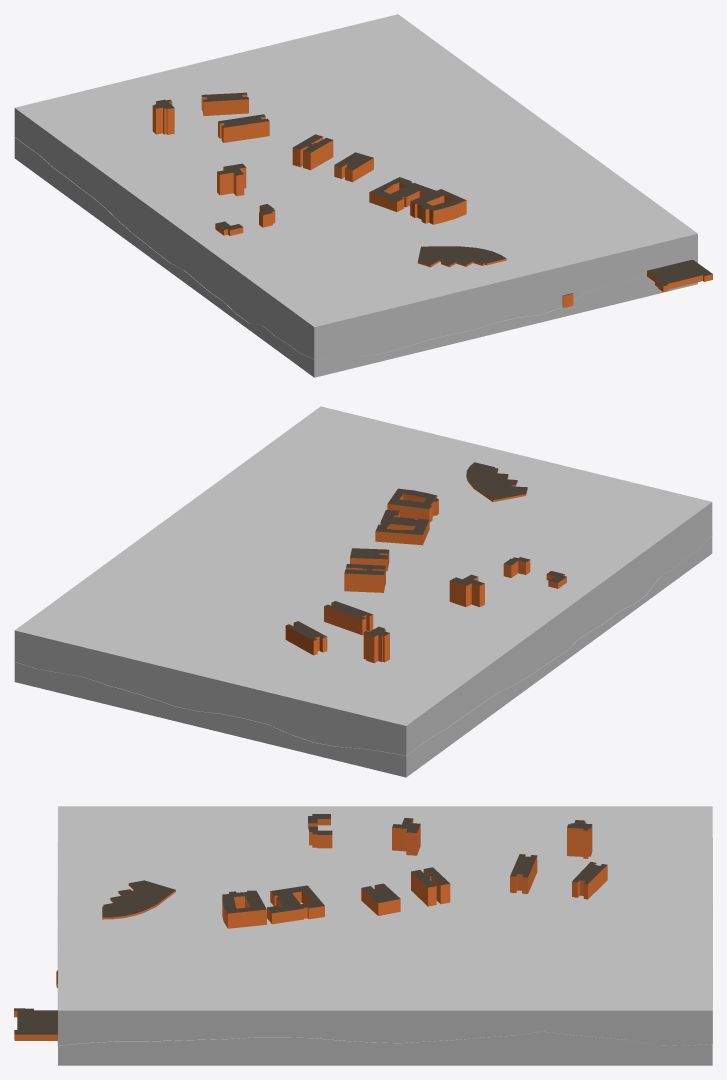
Rendered from utown_10nov.obj.
The picture shows the model from 3 angles, top to bottom: view 1: azimuth 30°, elevation 25°; view 2: azimuth 150°, elevation 25°; view 3: azimuth 270°, elevation 25°; orthographic projection. The views are drawn at different scales.
Parts seen in each view (by area): view 1: Terrain_envelope, map_12.osm_buildings; view 2: Terrain_envelope, map_12.osm_buildings, Terrain; view 3: Terrain_envelope, map_12.osm_buildings, Terrain.
Part boxes in pixels (left/top/right/bottom): Terrain_envelope: left=14, top=14, right=697, bottom=377; map_12.osm_buildings: left=152, top=92, right=712, bottom=307; Terrain_envelope: left=14, top=406, right=712, bottom=777; map_12.osm_buildings: left=285, top=462, right=566, bottom=663; Terrain: left=14, top=534, right=712, bottom=755; Terrain_envelope: left=58, top=806, right=712, bottom=1065; map_12.osm_buildings: left=14, top=814, right=607, bottom=1040; Terrain: left=57, top=838, right=712, bottom=1045.
Size of the model in its own units: 526 by 99.77 by 758.
